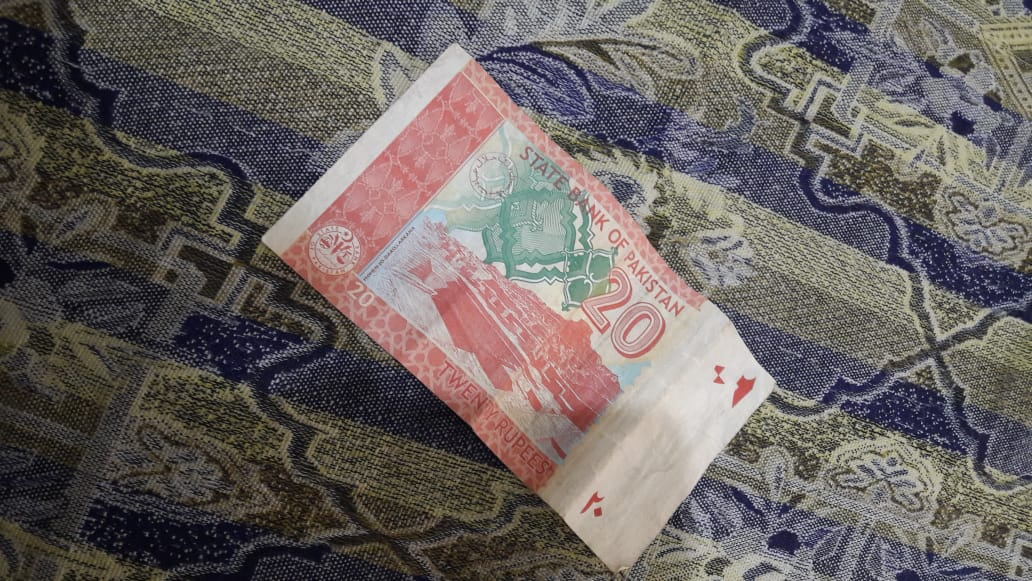20 rupee: (250, 36, 779, 581)
